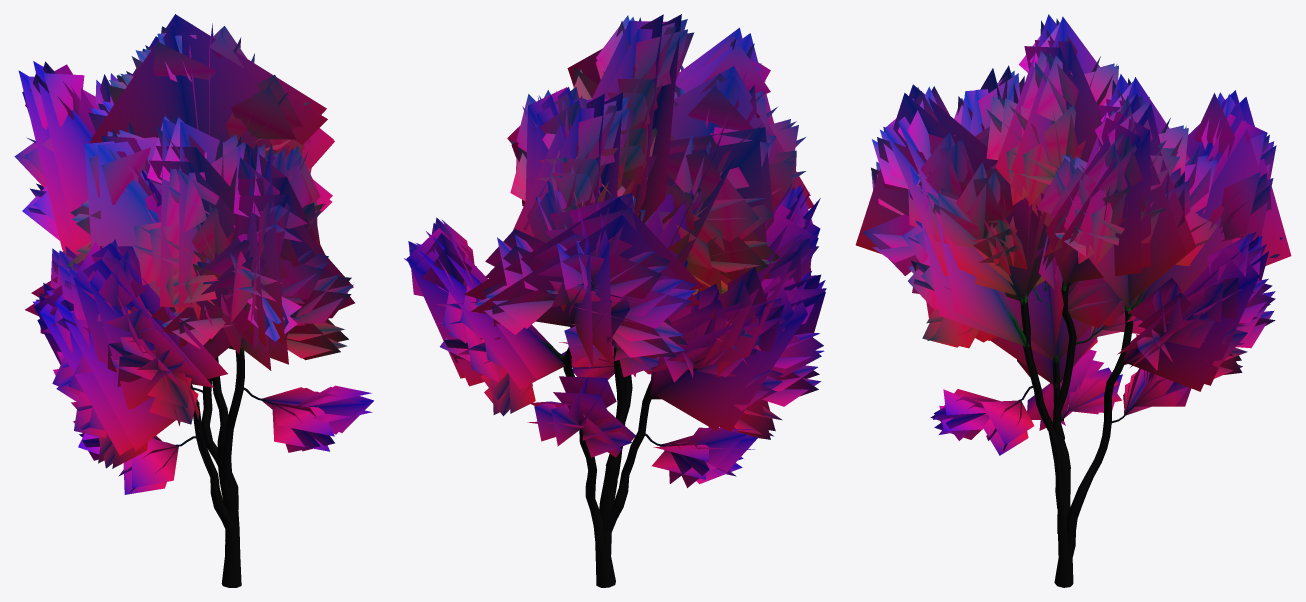
The model's file is bigleafmaple_middle.fbx.
3 renders of one model, left to right at view 1: azimuth 30°, elevation 25°; view 2: azimuth 150°, elevation 25°; view 3: azimuth 270°, elevation 25°, orthographic. The views are drawn at different scales.
Parts seen in each view (by area): view 1: tree_branches_lod0, tree_shadow, tree_trunk_lod0; view 2: tree_branches_lod0, tree_shadow, tree_trunk_lod0; view 3: tree_branches_lod0, tree_shadow, tree_trunk_lod0.
Boxes of the visible parts, x1,y1,x2,y2 form: tree_branches_lod0: [14, 26, 373, 494]; tree_shadow: [18, 14, 354, 455]; tree_trunk_lod0: [190, 349, 244, 587]; tree_branches_lod0: [404, 15, 826, 487]; tree_shadow: [406, 14, 825, 431]; tree_trunk_lod0: [540, 326, 653, 587]; tree_branches_lod0: [863, 18, 1282, 455]; tree_shadow: [855, 14, 1291, 391]; tree_trunk_lod0: [1008, 281, 1145, 587].
Size of what is drawn, in the model's own units: 11.29 by 18.05 by 13.16.
